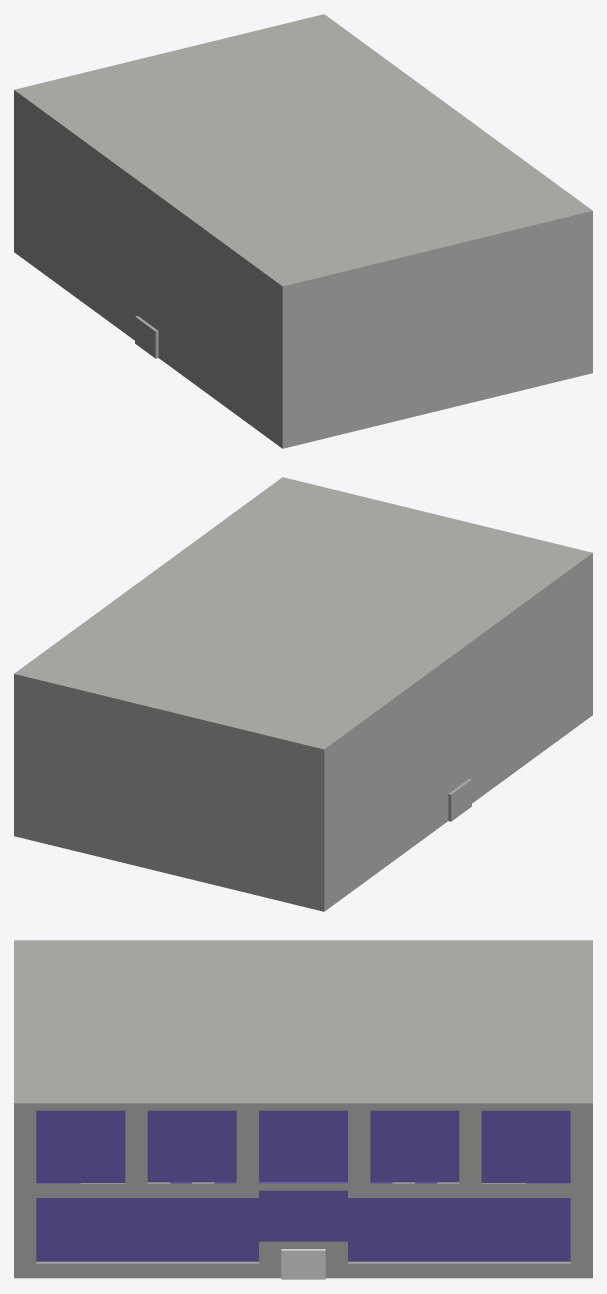
Rendered from Mall.fbx.
The picture shows the model from 3 angles, top to bottom: view 1: azimuth 30°, elevation 25°; view 2: azimuth 150°, elevation 25°; view 3: azimuth 270°, elevation 25°; orthographic projection. The views are drawn at different scales.
Parts seen in each view (by area): view 1: pCube1; view 2: pCube1; view 3: pCube1.
Part boxes in pixels (box(x1,y1,x2,y2)): pCube1: box(14, 14, 592, 448); pCube1: box(14, 477, 592, 911); pCube1: box(14, 940, 592, 1279).
Size of the model in its own units: 2.04 by 1 by 3.
